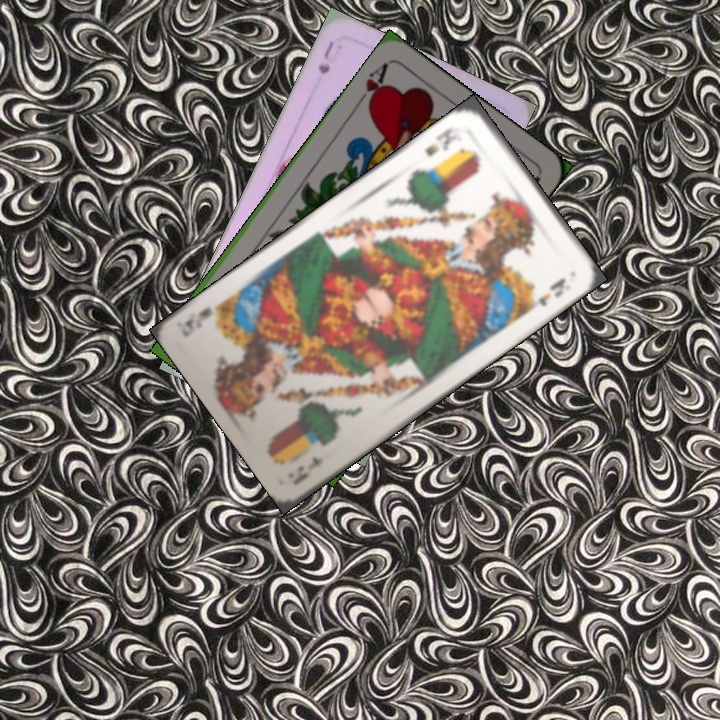EK: (420, 122, 465, 160), (289, 452, 326, 487)
HA: (351, 58, 392, 112)
SU: (314, 37, 340, 77)
